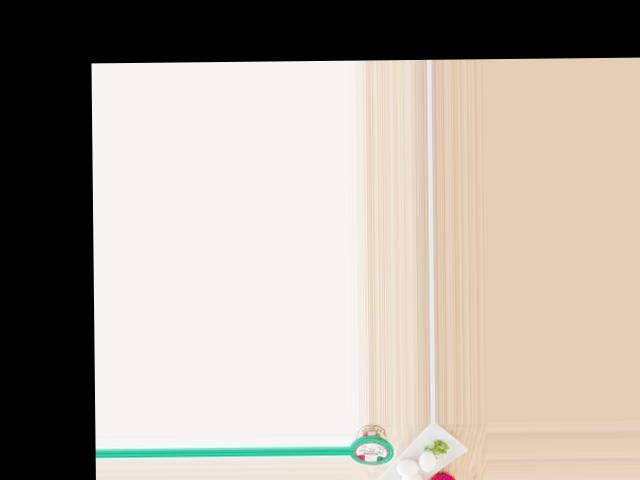bell_pepper: (421, 472, 465, 480)
